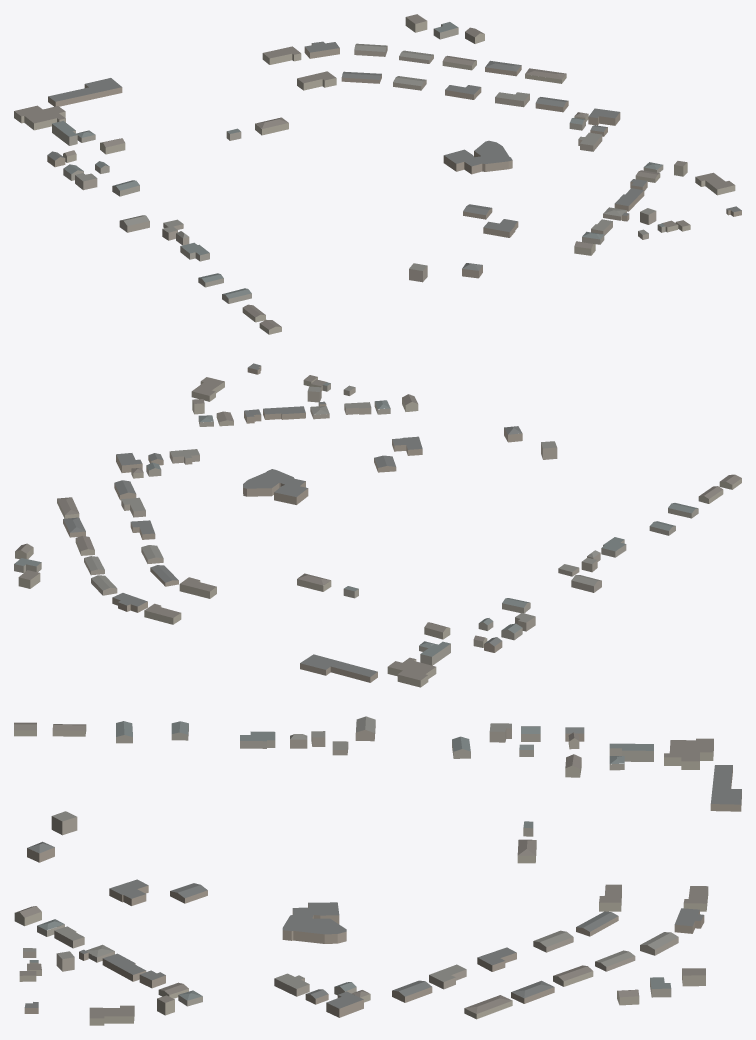
Rendered from 3bdf788f49da-chunk-1200_11845.glb.
3 views of the same model, one above another, from view 1: azimuth 30°, elevation 25°; view 2: azimuth 150°, elevation 25°; view 3: azimuth 270°, elevation 25° (orthographic). The views are drawn at different scales.
Visible parts, largest first — view 1: building_26608, building_3735, building_144035, building_137047, building_34911; view 2: building_26608, building_3735, building_144035, building_137047, building_34911, building_172665; view 3: building_26608, building_144035, building_3735, building_137047, building_47926, building_12962, building_16947, building_172665, building_99377, building_160357, building_90812, building_114421 (+13 smaller).
Boxes of the visible parts, <box> form: building_26608: <box>443,140,512,174</box>; building_3735: <box>48,78,122,106</box>; building_144035: <box>14,105,65,130</box>; building_137047: <box>695,172,735,195</box>; building_34911: <box>297,71,336,90</box>; building_26608: <box>243,469,308,504</box>; building_3735: <box>300,654,377,682</box>; building_144035: <box>387,657,436,687</box>; building_137047: <box>191,377,224,401</box>; building_34911: <box>179,577,216,598</box>; building_172665: <box>263,406,305,419</box>; building_26608: <box>282,902,346,943</box>; building_144035: <box>664,738,713,769</box>; building_3735: <box>710,765,741,811</box>; building_137047: <box>89,1005,134,1025</box>; building_47926: <box>109,879,148,905</box>; building_12962: <box>609,743,653,761</box>; building_16947: <box>326,991,363,1017</box>; building_172665: <box>102,953,146,981</box>; building_99377: <box>464,995,512,1019</box>; building_160357: <box>674,908,704,933</box>; building_90812: <box>477,947,516,971</box>; building_114421: <box>511,980,554,1003</box>.
Size of the model in its own units: 386 by 8.33 by 399.
